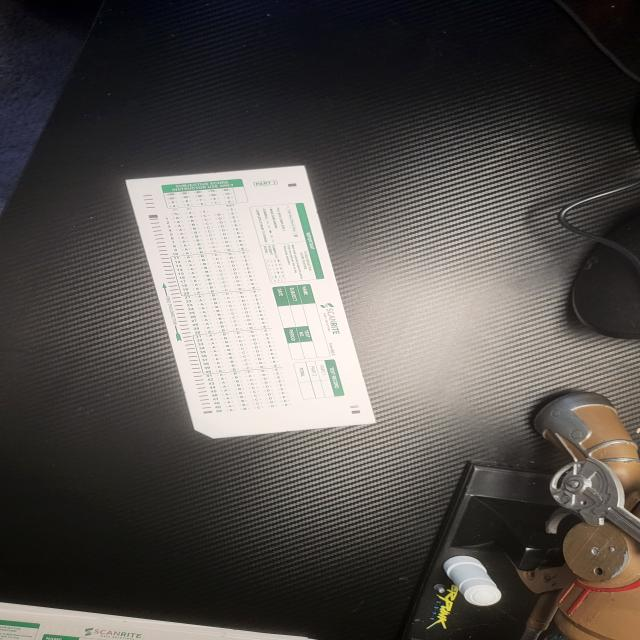scantron: (126, 165, 377, 439)
